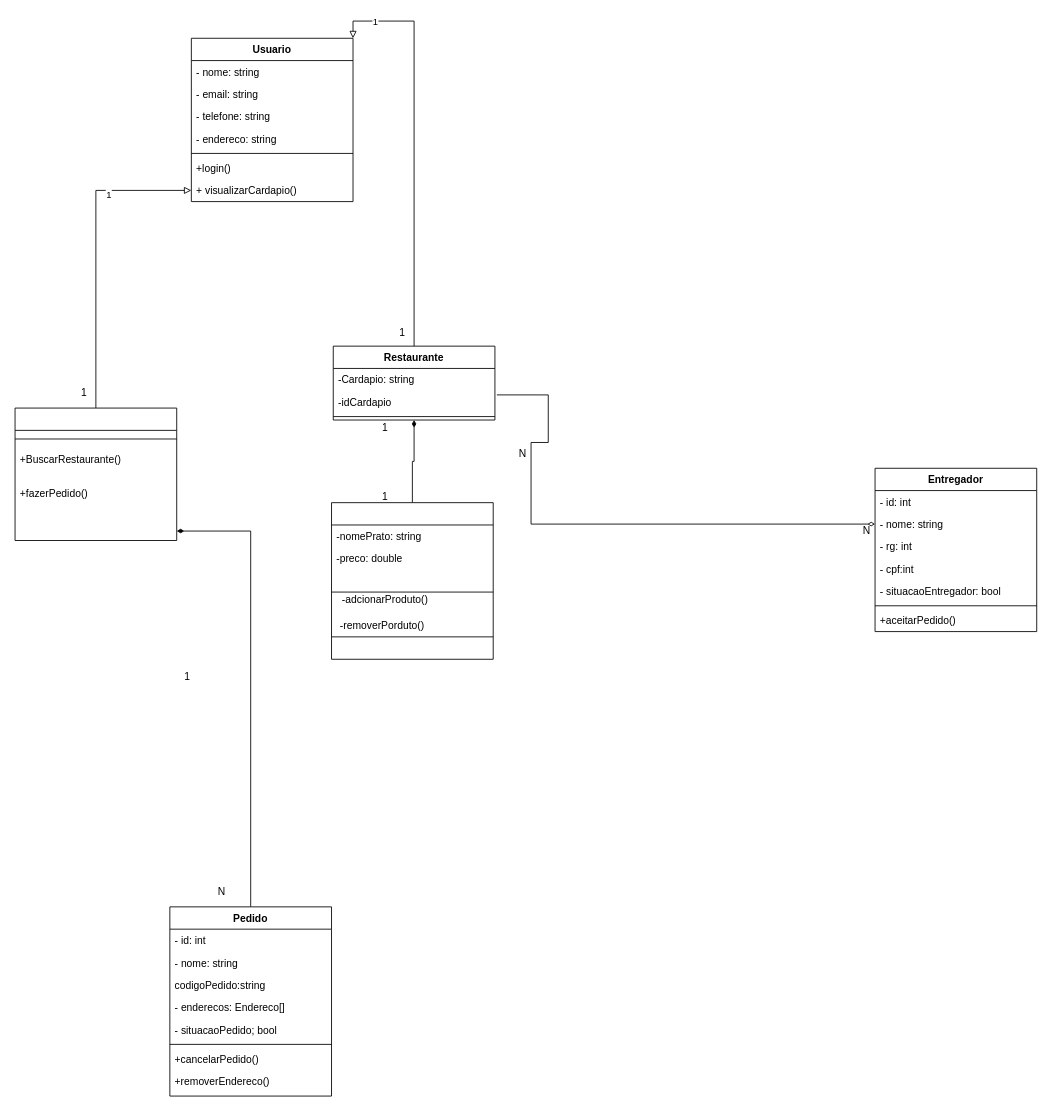
Image size: 1052x1114. Some labels were removed from this diagram. Each missing label, with the box of its shape:
Cardapio: (331, 502, 493, 659)
Cliente: (14, 407, 177, 541)
